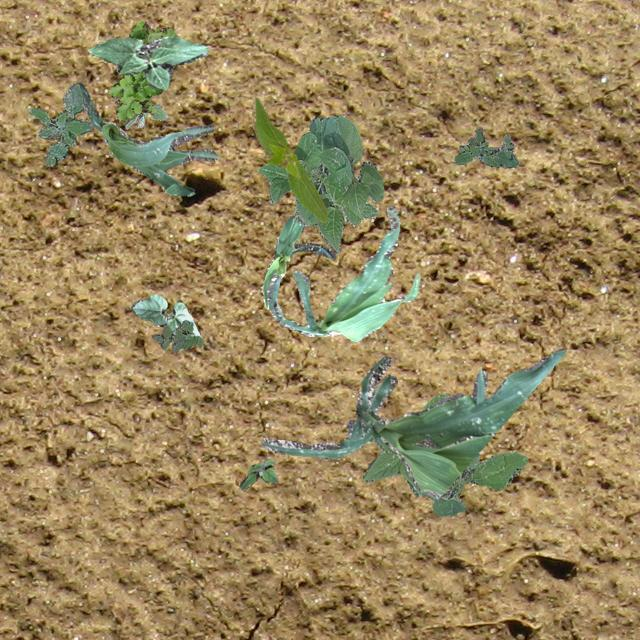crop: (260, 348, 564, 500), (266, 204, 418, 340), (258, 115, 382, 252), (77, 81, 217, 196), (252, 96, 328, 220), (260, 214, 334, 308), (86, 36, 208, 90), (130, 292, 200, 336)
weed: (362, 392, 526, 516), (108, 19, 176, 122), (27, 81, 92, 166), (454, 126, 518, 168), (150, 318, 202, 352), (238, 458, 276, 488), (124, 104, 168, 128)
